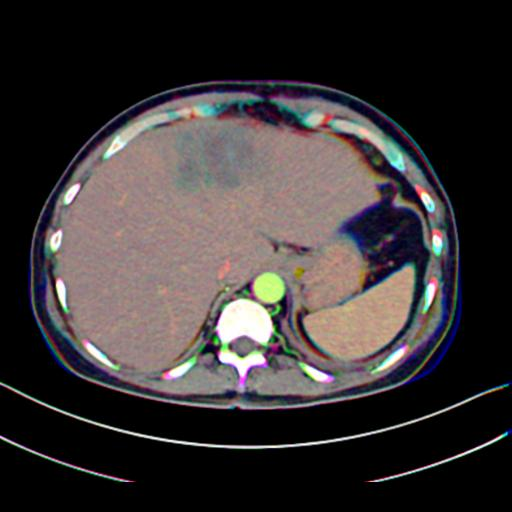Abscess: (175, 120, 253, 190)
